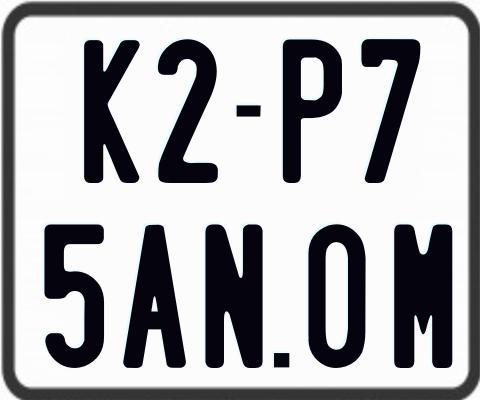0: (308, 223, 368, 368)
2: (158, 36, 222, 186)
5: (41, 222, 103, 367)
7: (360, 39, 425, 185)
A: (122, 223, 187, 370)
K: (82, 40, 140, 186)
M: (393, 222, 455, 370)
N: (204, 223, 263, 373)
P: (281, 38, 341, 182)
